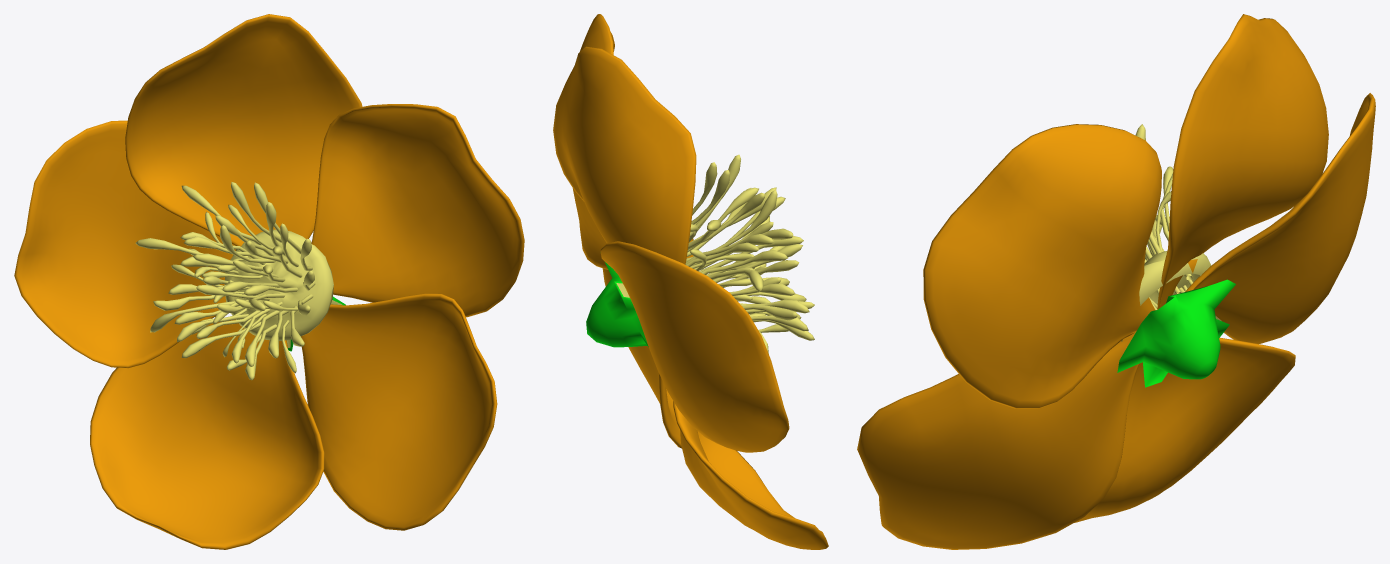
Rendered from Fleur1.glb.
3 renders of one model, left to right at view 1: azimuth 30°, elevation 25°; view 2: azimuth 150°, elevation 25°; view 3: azimuth 270°, elevation 25°, orthographic. The views are drawn at different scales.
Parts seen in each view (by area): view 1: Fleur; view 2: Fleur; view 3: Fleur.
Boxes of the visible parts, box(x1,y1,x2,y2) form: Fleur: box(14, 14, 524, 549); Fleur: box(553, 14, 828, 549); Fleur: box(857, 14, 1375, 549).
Size of the model in its own units: 1.87 by 2.4 by 2.01.
